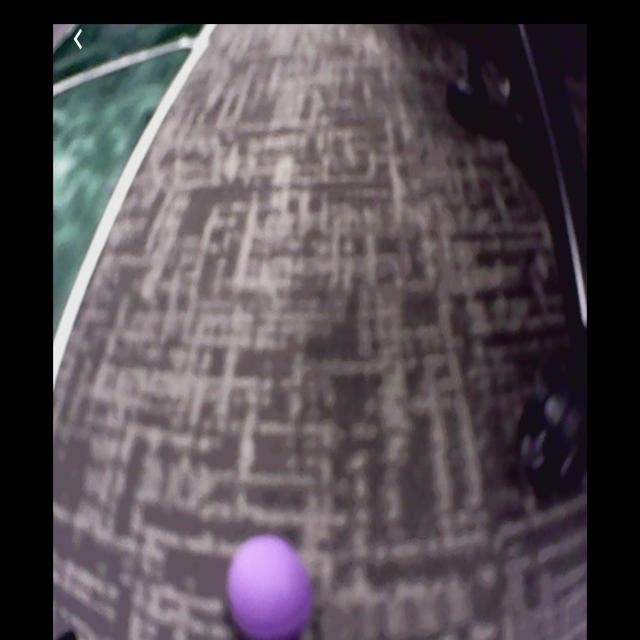ball: (226, 534, 309, 640)
